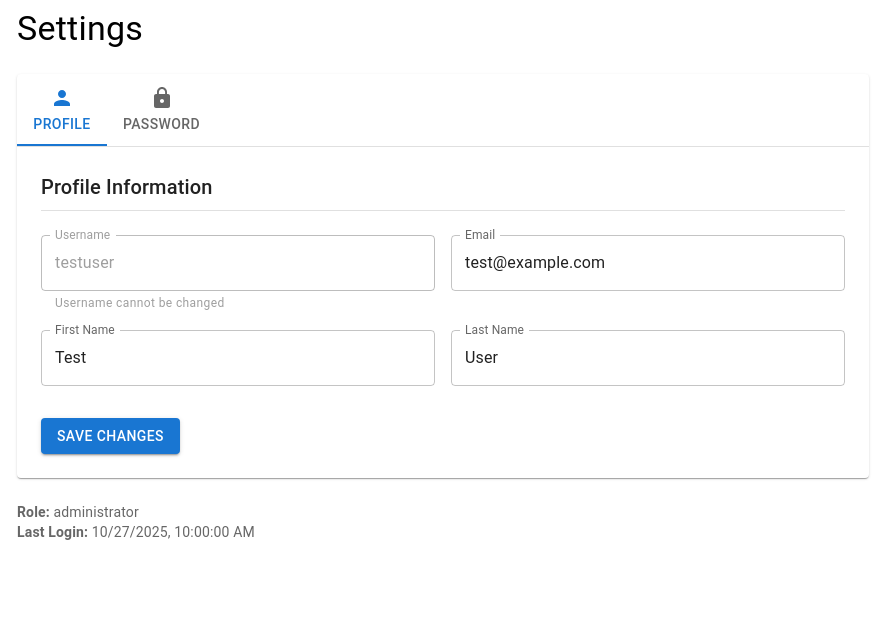
Test: Settings Component › Tab Switching › switches back to profile tab
Step 1. Click the tab "Password" → (162, 110), box [107,74,216,146]
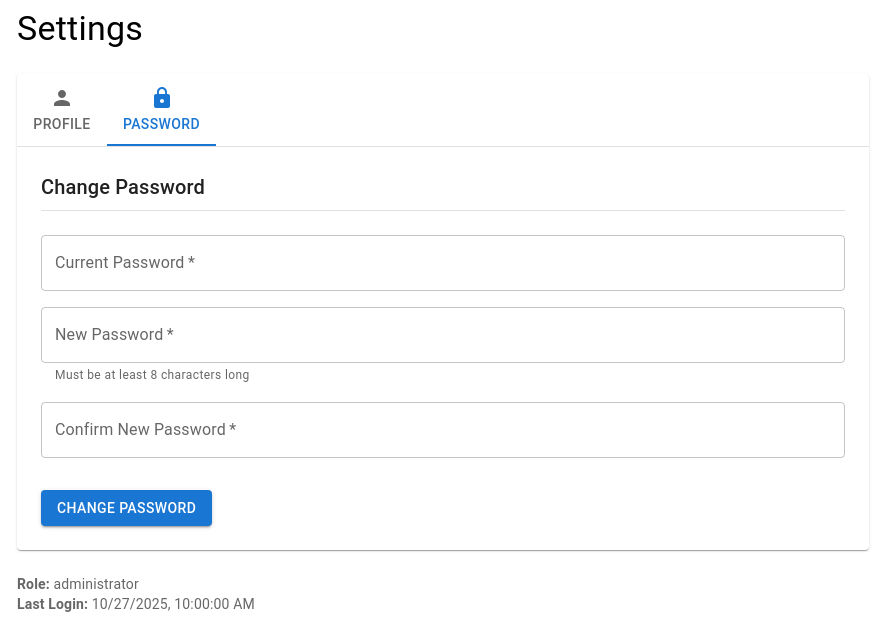
Step 2. Click the tab "Profile" → (62, 110), box [17,74,107,146]
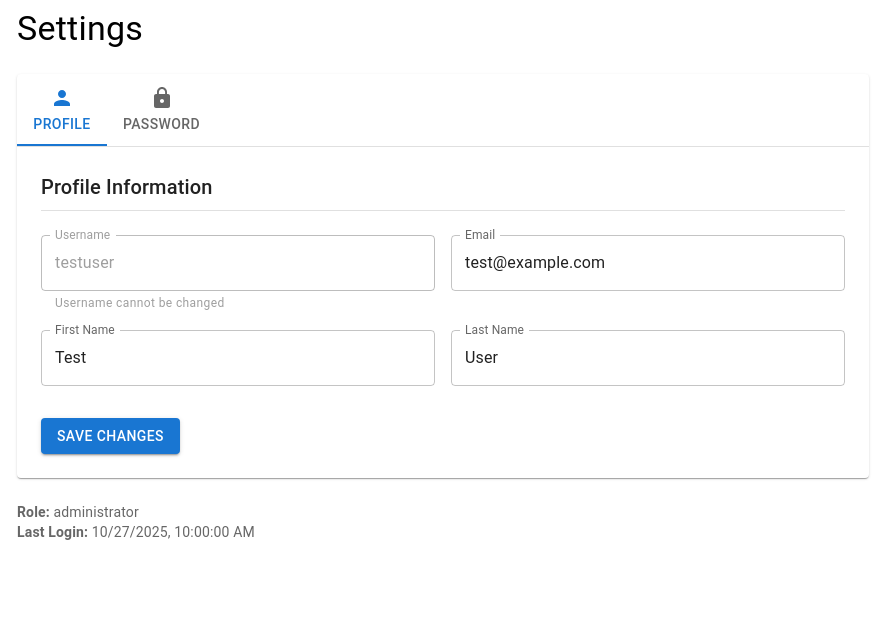
expect the heading "Profile Information" is shown: met, box [41,175,213,199]
